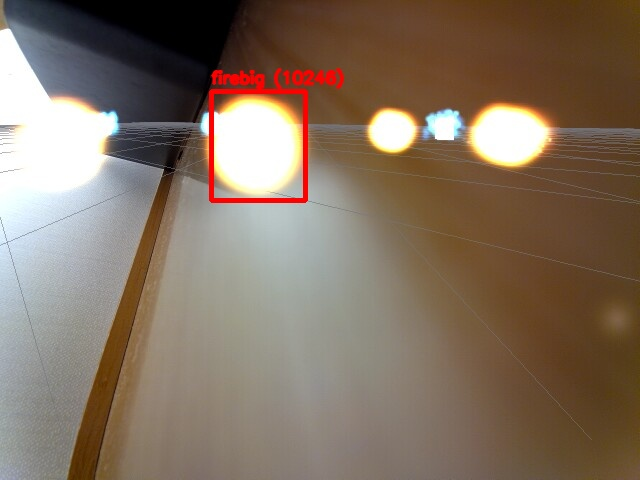firebig: (211, 91, 305, 200)
